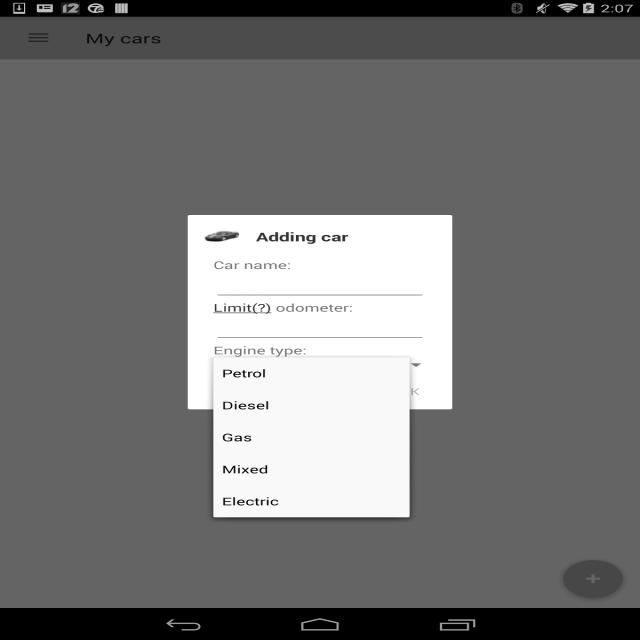EditText: (207, 260, 442, 300)
ImageButton: (22, 32, 59, 46)
TextView: (81, 30, 169, 48), (253, 229, 355, 244), (220, 494, 285, 509), (216, 430, 260, 444), (220, 366, 266, 379)
